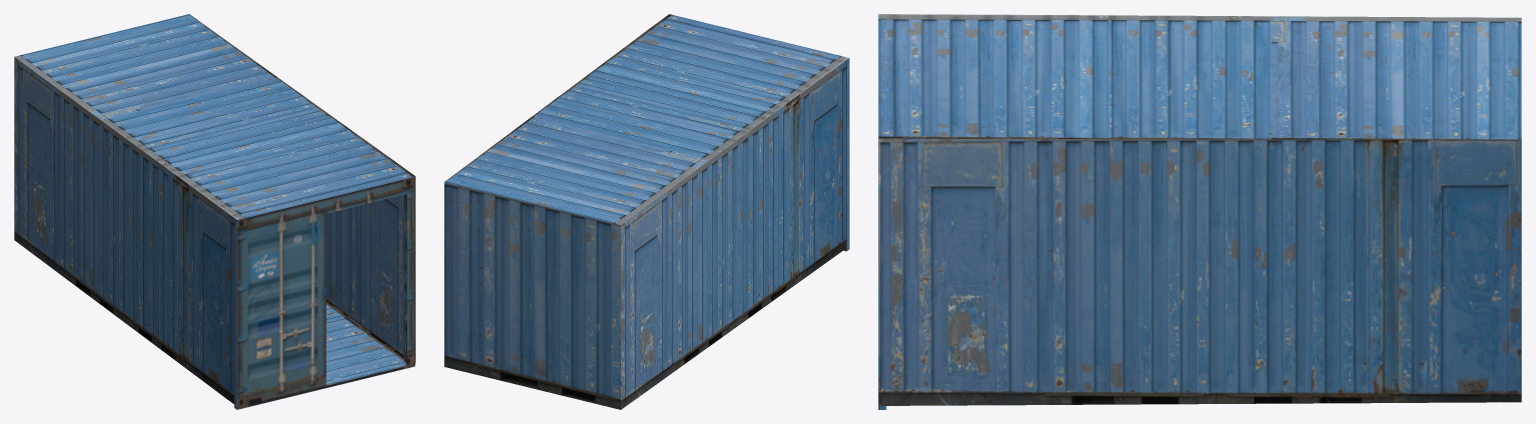
File: Container Blue door.FBX
3 views of the same model, side by side, from view 1: azimuth 30°, elevation 25°; view 2: azimuth 150°, elevation 25°; view 3: azimuth 270°, elevation 25° (orthographic). The views are drawn at different scales.
Parts seen in each view (by area): view 1: Container Blue Door; view 2: Container Blue Door; view 3: Container Blue Door.
Part boxes in pixels (left/top/right/bottom): Container Blue Door: left=14, top=14, right=415, bottom=409; Container Blue Door: left=444, top=14, right=849, bottom=409; Container Blue Door: left=878, top=14, right=1521, bottom=409.
Size of the model in its own units: 284 by 288 by 619.
1 material, 1 textured.
